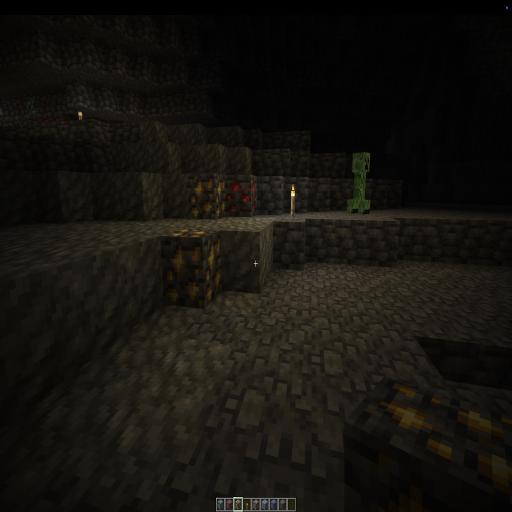iron ore: (160, 174, 226, 306)
redstone ore: (226, 176, 261, 216)
